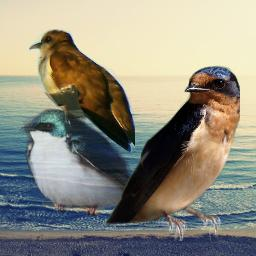Cuckoo: (29, 29, 135, 155)
Swallow: (104, 65, 240, 241), (19, 107, 178, 216)
